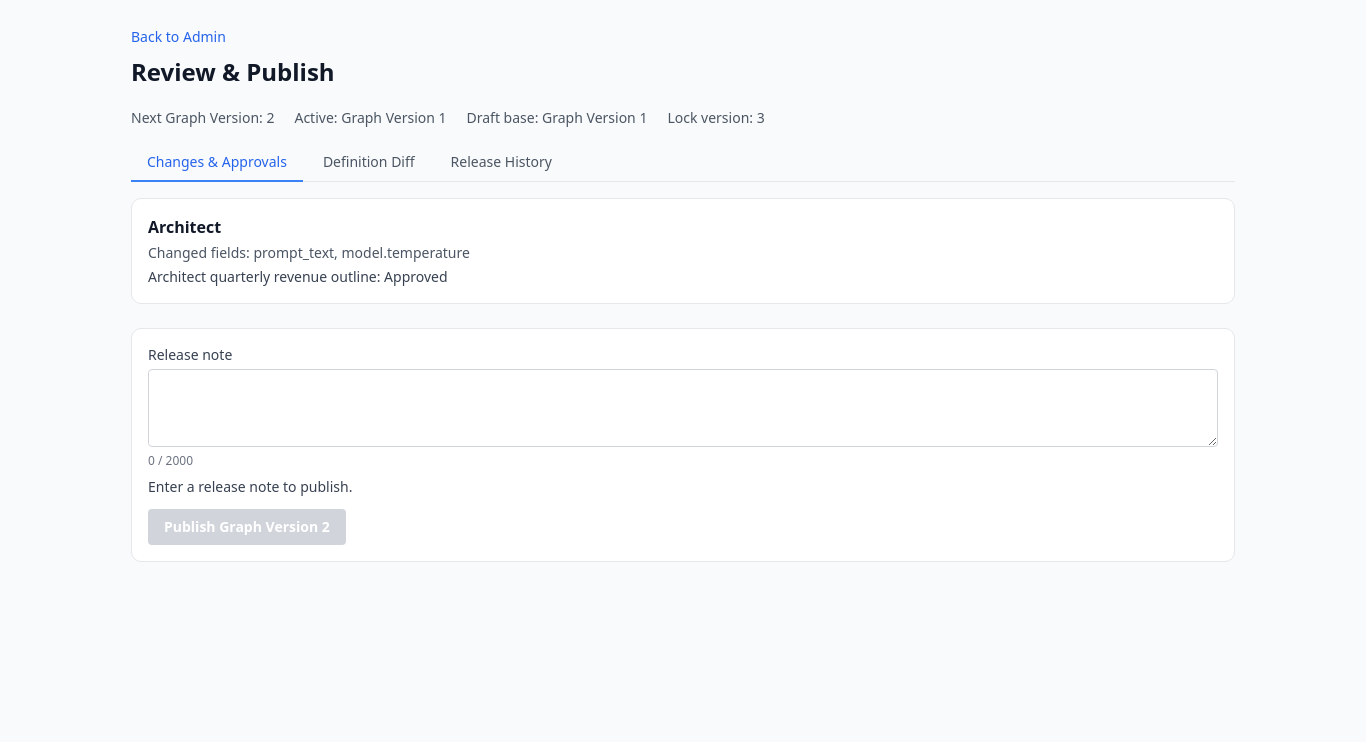
Test: Release History: the rollback preview › issues exactly one preview GET and zero POSTs, then shows lineage, mappings, draft effects and evidence
Expected: the text "Next Graph Version: 2" is shown, [131,108,274,128]
Click the tab with test id "release-history-tab" at (501, 163), box [435,144,568,182]
(page scrolled)
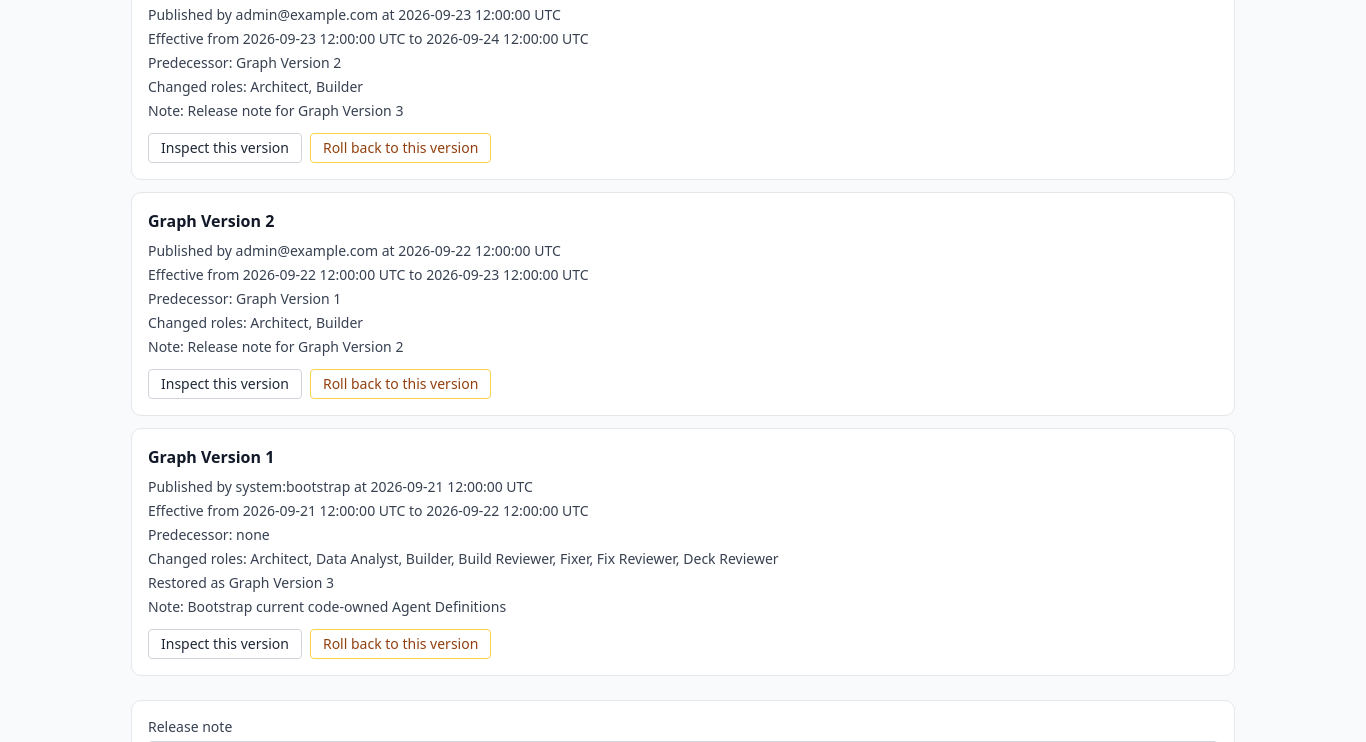
Click the button "Roll back to this version" below "Predecessor: Graph Version 1" at (401, 384), box [310,369,491,399]
(page scrolled)
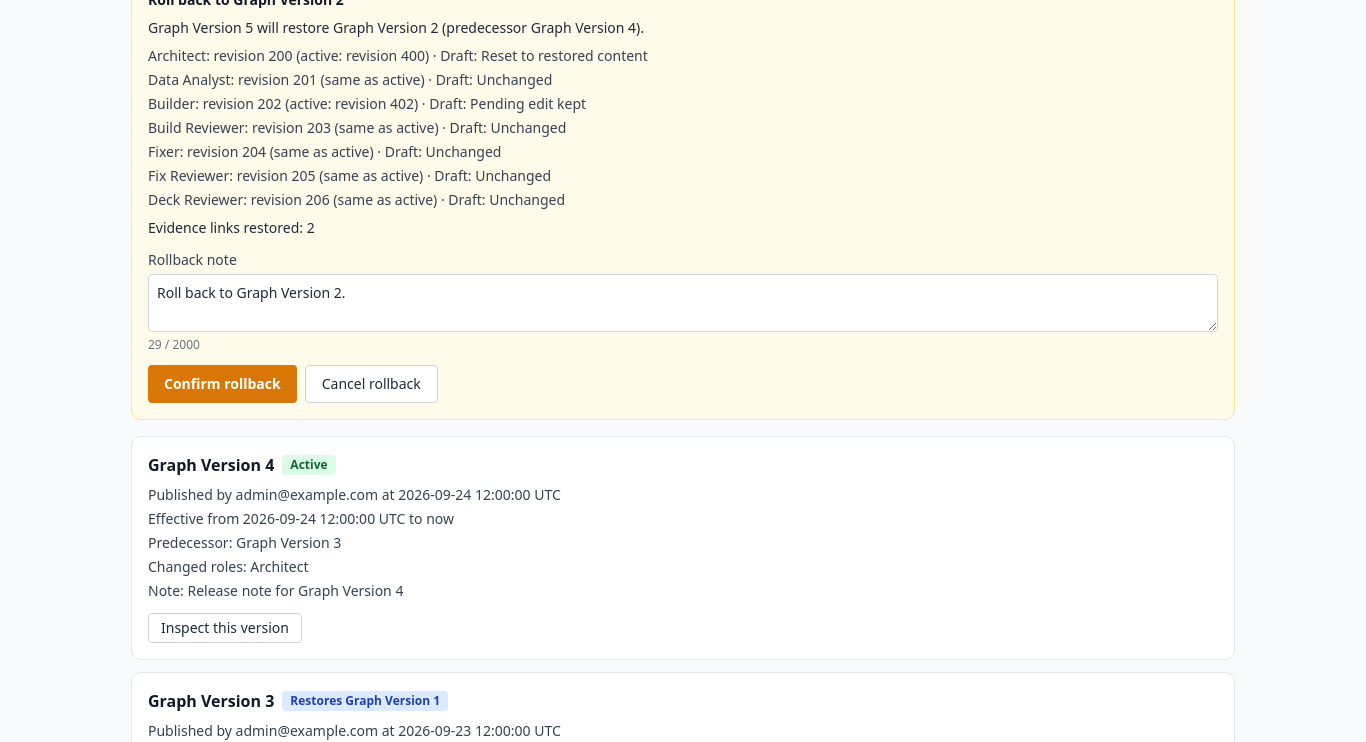
Expected: the text with test id "rollback-lineage" reads "Graph Version 5 will restore Graph Version 2 (predecessor Graph Version 4).", [148,18,644,37]
Expected: the element with test id "rollback-preview" shows "Evidence links restored: 2", [148,218,315,237]
Expected: the text box with test id "rollback-note-input" holds "Roll back to Graph Version 2.", [148,274,1218,332]
